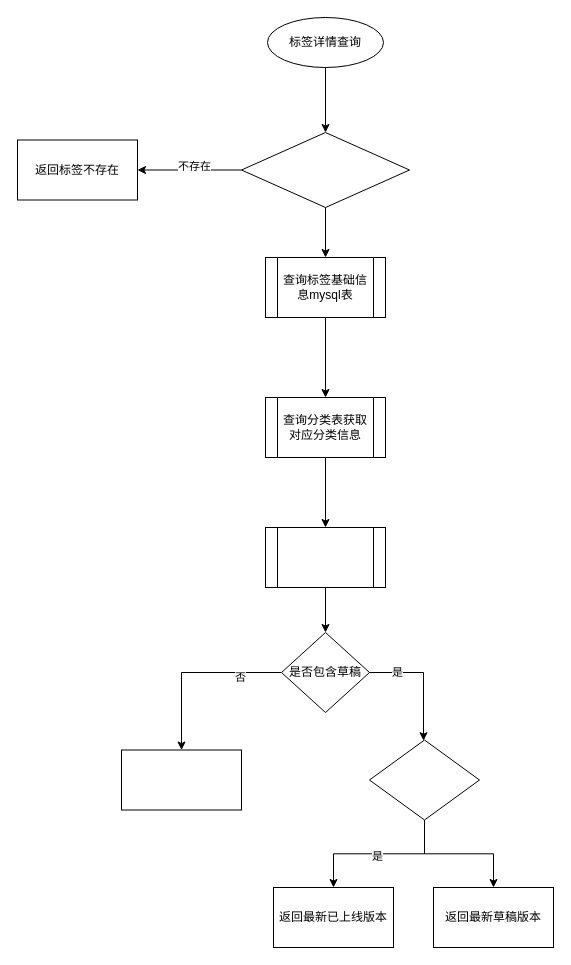
This 571x965 diagram has some shape labels left out. Here are the shapes that lost their labels. From the top down, the centre of each, then its label:
At point (325, 170): "根据标签ID 和标签名校验标签存在".
At point (325, 557): "查询标签规则表".
At point (181, 779): "根据时间返回最新非草稿规则版本".
At point (424, 779): "是否是已上线".
